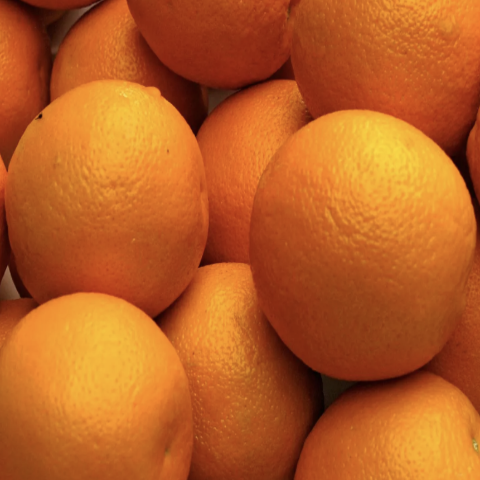orange: (229, 90, 480, 389), (0, 71, 214, 337), (0, 284, 235, 480)
